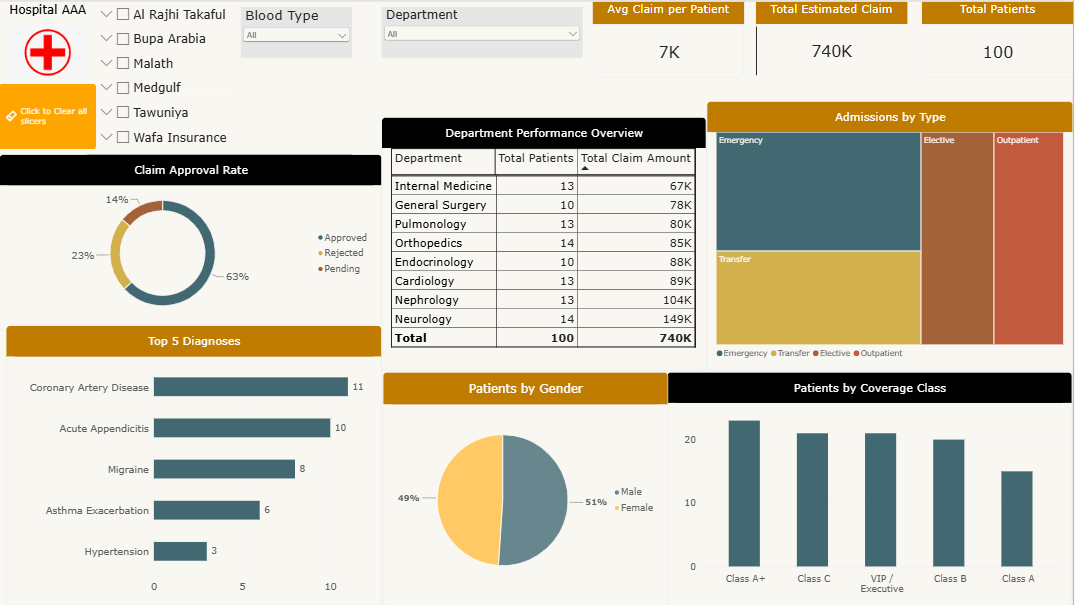

Layout of this report page (visuals, bound fields, positions):
{"tool":"powerbi","page":{"name":"Page 1","canvas":[1920,1080],"ordinal":0},"visuals":[{"type":"slicer","title":"Insurance Approvals by Provider","fields":{"Values":["Insurance & Financial Data.Insurance Provider","Insurance & Financial Data.Approval Status","Patient Medical Records.Department"]},"box":[172.5,0,240,272.5],"z":0},{"type":"image","title":"Hospital AAA","box":[0,0,173.7,139.4],"z":2},{"type":"donutChart","title":"Claim Approval Rate","fields":{"Category":["Insurance & Financial Data.Approval Status"],"Y":["CountNonNull(Insurance & Financial Data.Approval Status)"]},"box":[0,273.4,685,315],"z":3},{"type":"clusteredBarChart","title":"Top 5 Diagnoses","fields":{"Category":["Patient Medical Records.Primary Diagnosis"],"Y":["CountNonNull(Patient Medical Records.Patient ID)"]},"box":[12.5,580,672.5,500],"z":4},{"type":"columnChart","title":"Patients by Coverage Class","fields":{"Category":["Insurance & Financial Data.Coverage Level"],"Y":["CountNonNull(Patient Medical Records.Patient ID)"]},"box":[1195,662.5,725,417.5],"z":5},{"type":"pieChart","title":"Patients by Gender","fields":{"Category":["Patient Medical Records.Gender"],"Y":["CountNonNull(Patient Medical Records.Gender)"]},"box":[685,662.5,510,417.5],"z":6},{"type":"treemap","title":"Admissions by Type","fields":{"Group":["Patient Medical Records.Admission Type"],"Values":["CountNonNull(Patient Medical Records.Patient ID)"]},"box":[1264.8,177.6,655.2,482.4],"z":7},{"type":"cardVisual","title":"Total Patients","fields":{"Data":["CountNonNull(Patient Medical Records.Patient ID)"]},"box":[1648.8,0,271.2,136.8],"z":9},{"type":"cardVisual","title":"Total Estimated Claim","fields":{"Data":["Sum(Insurance & Financial Data.Estimated Claim (SAR))"]},"box":[1353.6,0,271.2,136.8],"z":10},{"type":"slicer","fields":{"Values":["Patient Medical Records.Blood Type"]},"box":[432,9.6,199.2,91.2],"z":11},{"type":"actionButton","box":[0,148.2,173.2,116.9],"z":12},{"type":"slicer","fields":{"Values":["Patient Medical Records.Department"]},"box":[684,9.6,360,91.2],"z":13},{"type":"pivotTable","title":"Department Performance Overview","fields":{"Rows":["Patient Medical Records.Department"],"Values":["CountNonNull(Patient Medical Records.Patient ID)","Sum(Insurance & Financial Data.Estimated Claim (SAR))"]},"box":[684,206.4,580.8,453.6],"z":14},{"type":"cardVisual","title":"Avg Claim per Patient","fields":{"Data":["Avg(Insurance & Financial Data.Estimated Claim (SAR))"]},"box":[1060.8,0,271.2,136.8],"z":15}]}

Visuals, with their boxes in screenshot pixels (x1, y1, x2, y2), scaled from the page's 1920x1080 canvas onto the 1075x605 screenshot:
"Insurance Approvals by Provider" slicer: x1=97, y1=0, x2=231, y2=153
"Hospital AAA" image: x1=0, y1=0, x2=97, y2=78
"Claim Approval Rate" donutChart: x1=0, y1=153, x2=384, y2=330
"Top 5 Diagnoses" clusteredBarChart: x1=7, y1=325, x2=384, y2=604
"Patients by Coverage Class" columnChart: x1=669, y1=371, x2=1074, y2=604
"Patients by Gender" pieChart: x1=384, y1=371, x2=669, y2=604
"Admissions by Type" treemap: x1=708, y1=99, x2=1074, y2=370
"Total Patients" cardVisual: x1=923, y1=0, x2=1074, y2=77
"Total Estimated Claim" cardVisual: x1=758, y1=0, x2=910, y2=77
slicer - Patient Medical Records.Blood Type: x1=242, y1=5, x2=353, y2=56
actionButton: x1=0, y1=83, x2=97, y2=149
slicer - Patient Medical Records.Department: x1=383, y1=5, x2=585, y2=56
"Department Performance Overview" pivotTable: x1=383, y1=116, x2=708, y2=370
"Avg Claim per Patient" cardVisual: x1=594, y1=0, x2=746, y2=77
